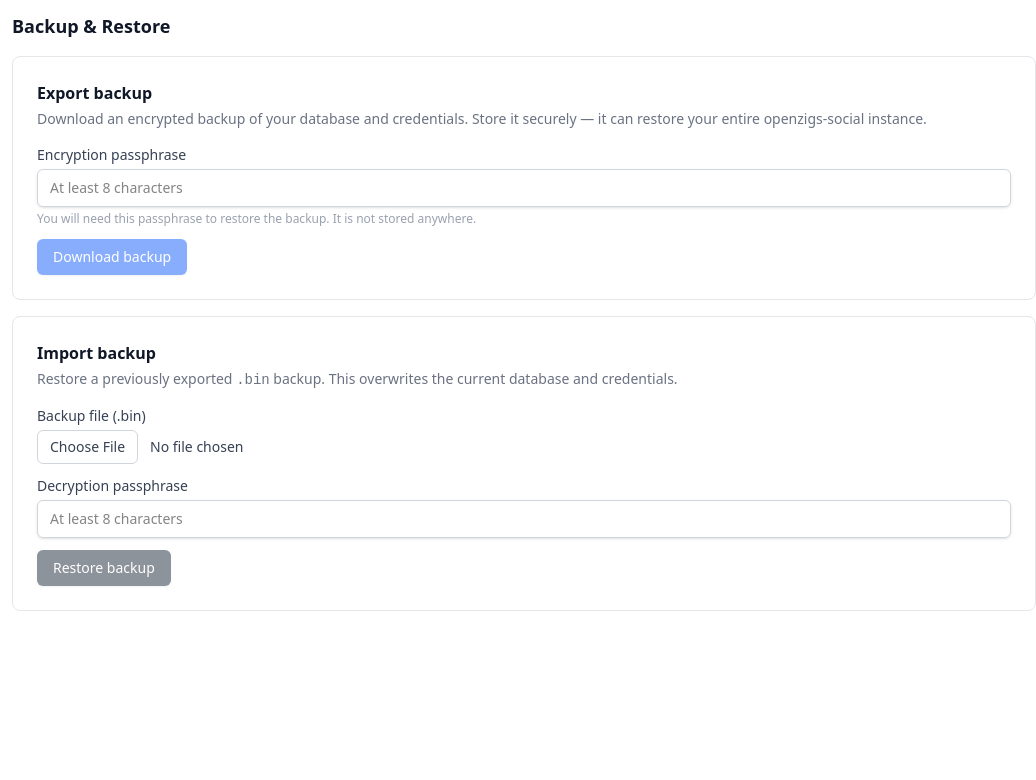
BackupSection - ExportCard › shows error on export failure
Type "strongpassword" into the password field labelled "Encryption passphrase".
click(524, 188); type("strongpassword")  # box [37,169,1011,207]
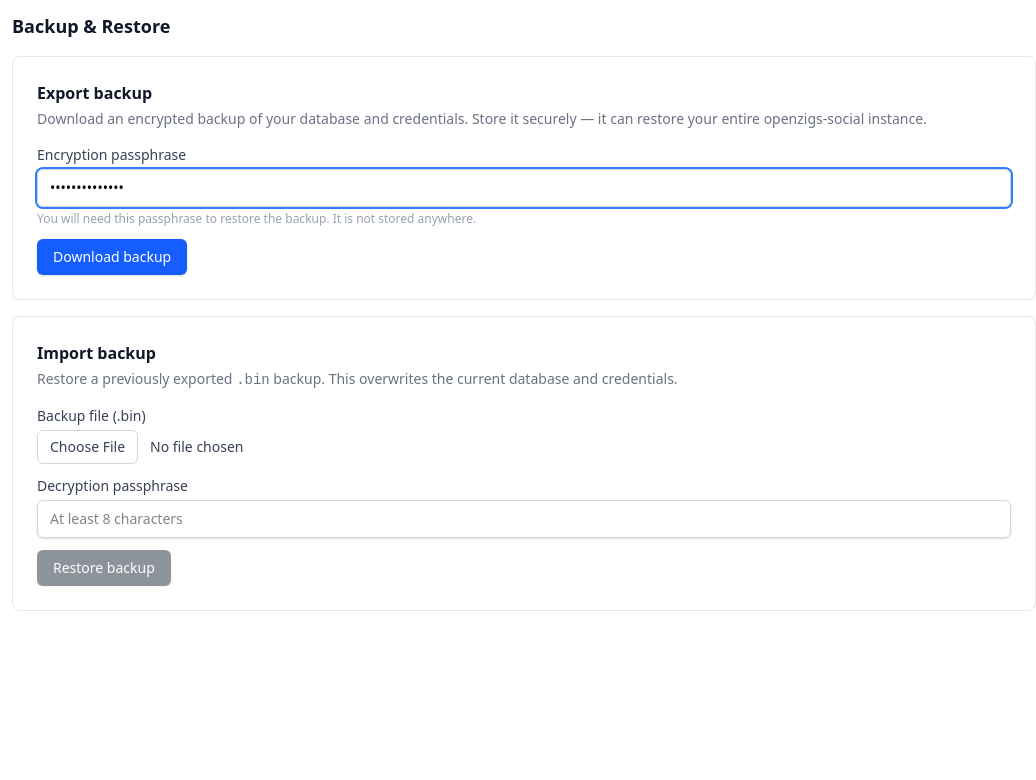
Click the button "Download backup".
click(112, 257)  # box [37,239,187,275]
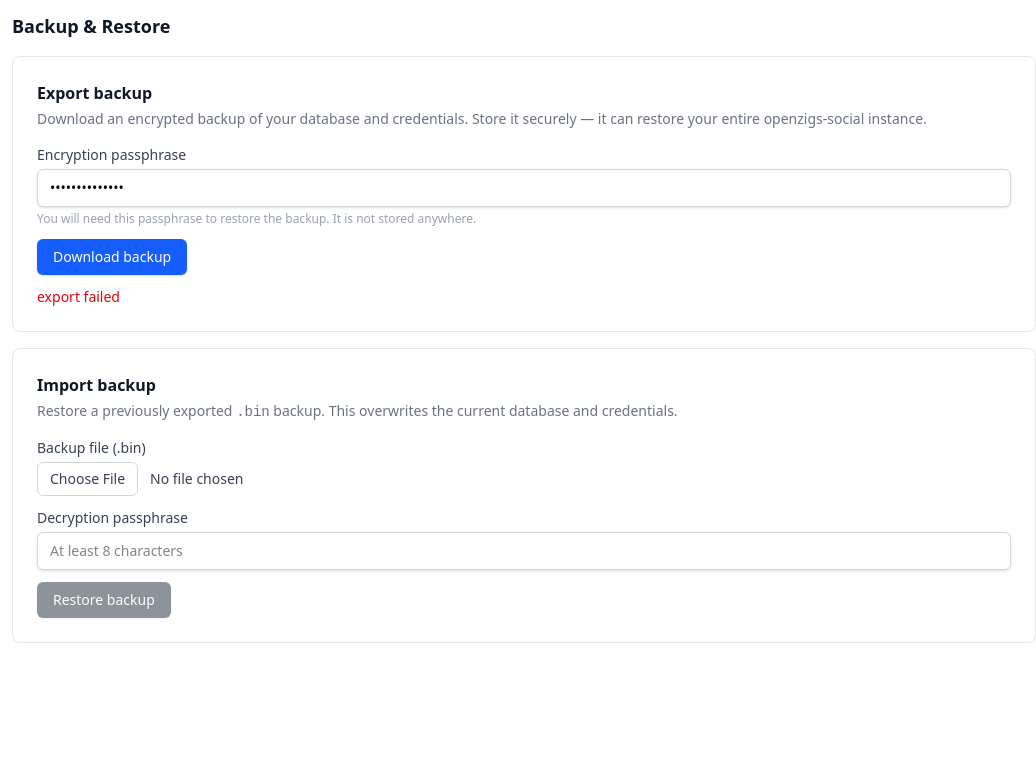
Check: the message reads "export failed", box [37,287,120,306]
